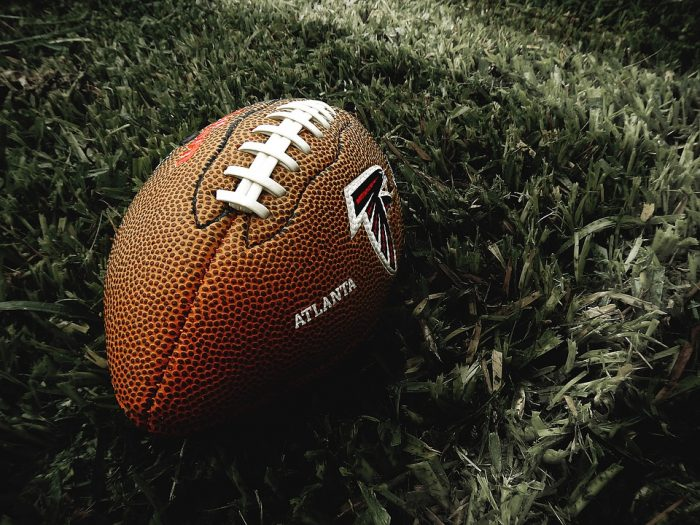futbol americano: (104, 98, 405, 432)
